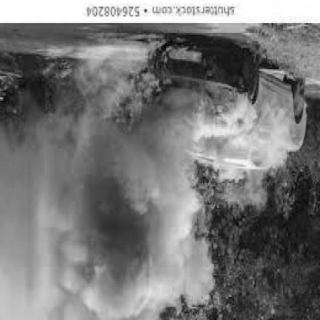Fire: (101, 33, 178, 146), (178, 46, 195, 59)
Smoke: (21, 144, 197, 318), (195, 86, 291, 180)
